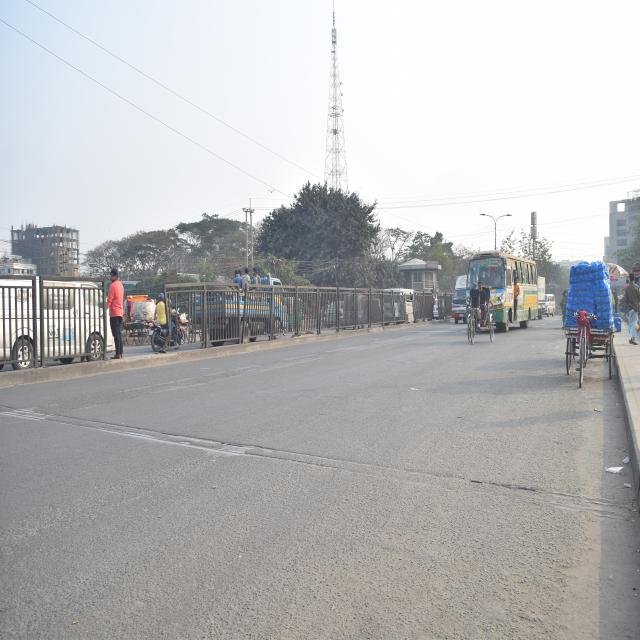bus: (466, 250, 539, 330)
microbus: (544, 292, 557, 318)
pickup-van: (449, 272, 471, 328), (537, 276, 547, 320)
